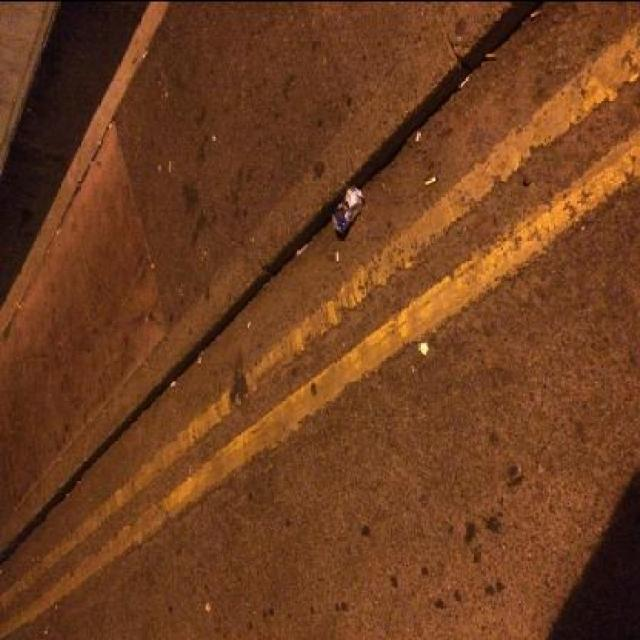metal: (332, 184, 365, 233)
